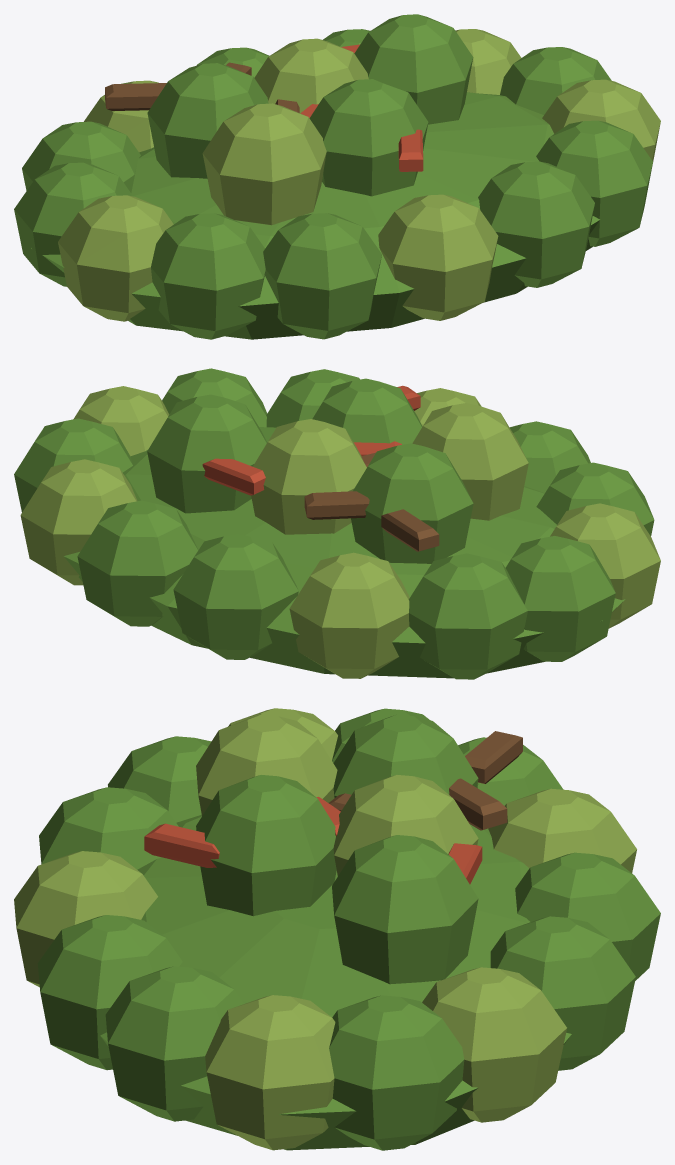
Rendered from peas.obj.
The picture shows the model from 3 angles, top to bottom: view 1: azimuth 30°, elevation 25°; view 2: azimuth 150°, elevation 25°; view 3: azimuth 270°, elevation 25°; orthographic projection. The views are drawn at different scales.
Parts seen in each view (by area): view 1: peas; view 2: peas; view 3: peas.
Part boxes in pixels (box(x1,y1,x2,y2)): peas: box(14, 14, 660, 339); peas: box(14, 368, 660, 679); peas: box(14, 708, 660, 1150).
Size of the model in its own units: 0.3924 by 0.1306 by 0.3049.
